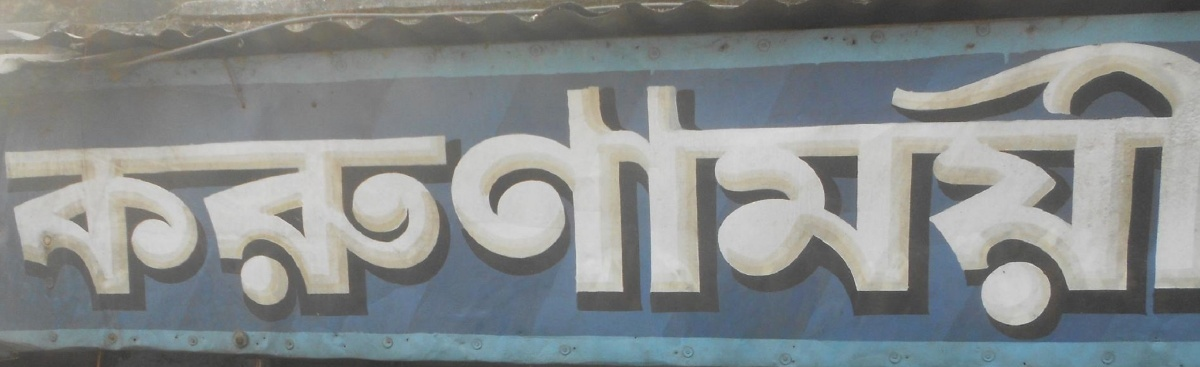text: (17, 35, 32, 338), (33, 35, 48, 338), (49, 35, 64, 338), (65, 35, 80, 338), (81, 35, 96, 338), (97, 35, 112, 338), (113, 35, 128, 338), (129, 35, 144, 338), (145, 35, 160, 338), (161, 35, 176, 338), (177, 35, 192, 338), (193, 35, 208, 338), (209, 35, 224, 338), (225, 35, 240, 338), (241, 35, 256, 338), (257, 35, 272, 338), (273, 35, 288, 338), (289, 35, 304, 338), (305, 35, 320, 338), (321, 35, 336, 338), (337, 35, 352, 338), (353, 35, 368, 338), (369, 35, 384, 338), (385, 35, 400, 338), (401, 35, 416, 338), (417, 35, 432, 338), (433, 35, 448, 338), (449, 35, 464, 338), (465, 35, 480, 338), (481, 35, 496, 338), (497, 35, 512, 338), (513, 35, 528, 338), (529, 35, 544, 338), (545, 35, 560, 338), (561, 35, 576, 338), (577, 35, 592, 338), (593, 35, 608, 338), (609, 35, 624, 338), (625, 35, 640, 338), (641, 35, 656, 338), (657, 35, 672, 338), (673, 35, 688, 338), (689, 35, 704, 338), (705, 35, 720, 338), (721, 35, 736, 338), (737, 35, 752, 338), (753, 35, 768, 338), (769, 35, 784, 338), (785, 35, 800, 338), (801, 35, 816, 338), (817, 35, 832, 338), (833, 35, 848, 338), (849, 35, 864, 338), (865, 35, 880, 338), (881, 35, 896, 338), (897, 35, 912, 338), (913, 35, 928, 338), (929, 35, 944, 338), (945, 35, 960, 338), (961, 35, 976, 338), (977, 35, 992, 338), (993, 35, 1008, 338), (1009, 35, 1024, 338), (1025, 35, 1040, 338), (1041, 35, 1056, 338), (1057, 35, 1072, 338), (1073, 35, 1088, 338), (1089, 35, 1104, 338), (1105, 35, 1120, 338), (1121, 35, 1136, 338), (1137, 35, 1152, 338), (1153, 35, 1168, 338), (1169, 35, 1184, 338), (1185, 35, 1199, 338), (5, 35, 16, 338)
